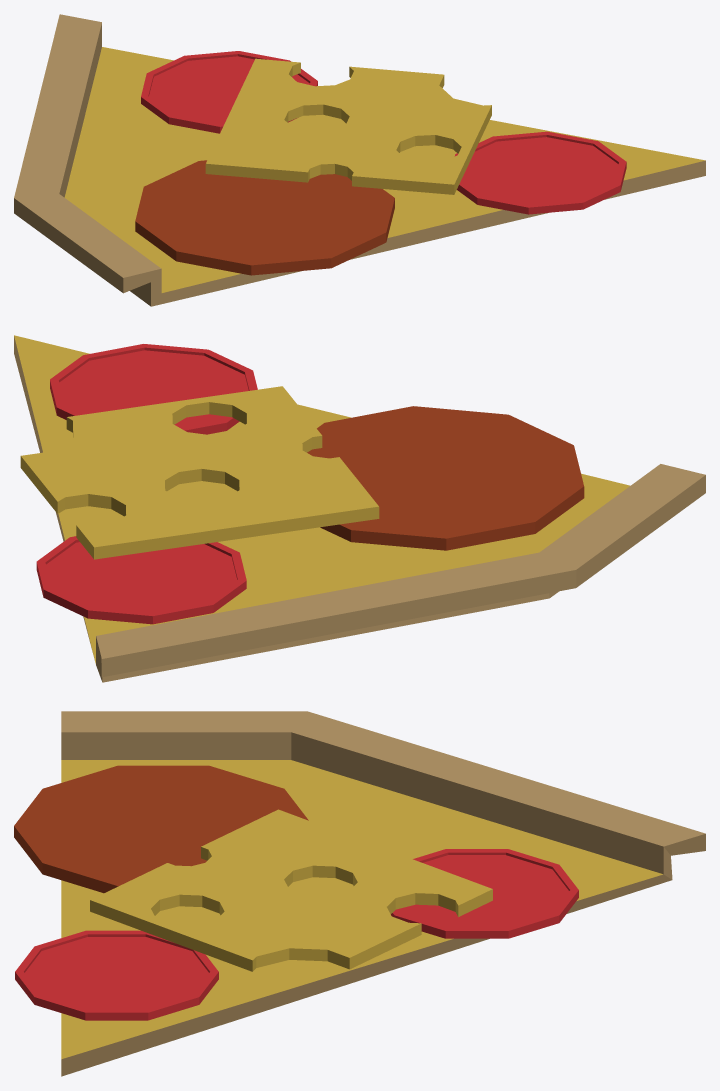
Rendered from pizzaSlice.fbx.
The picture shows the model from 3 angles, top to bottom: view 1: azimuth 30°, elevation 25°; view 2: azimuth 150°, elevation 25°; view 3: azimuth 270°, elevation 25°; orthographic projection. The views are drawn at different scales.
Parts seen in each view (by area): view 1: Circle, Plane_001, Circle_005, Circle_009, Circle_011; view 2: Circle, Plane_001, Circle_005, Circle_011, Circle_009; view 3: Circle, Plane_001, Circle_005, Circle_009, Circle_011.
Part boxes in pixels (x1,y1,x2,y2): Circle: (14,14,705,306); Plane_001: (205,58,491,194); Circle_005: (135,160,394,275); Circle_009: (454,131,626,214); Circle_011: (141,51,317,133); Circle: (14,335,705,682); Plane_001: (20,386,379,559); Circle_005: (307,406,584,550); Circle_011: (36,536,246,624); Circle_009: (50,344,257,434); Circle: (61,711,705,1076); Plane_001: (90,809,492,971); Circle_005: (14,765,308,893); Circle_009: (15,930,218,1020); Circle_011: (391,849,578,938).
Size of the model in its own units: 0.9511 by 0.0626 by 0.8686.
